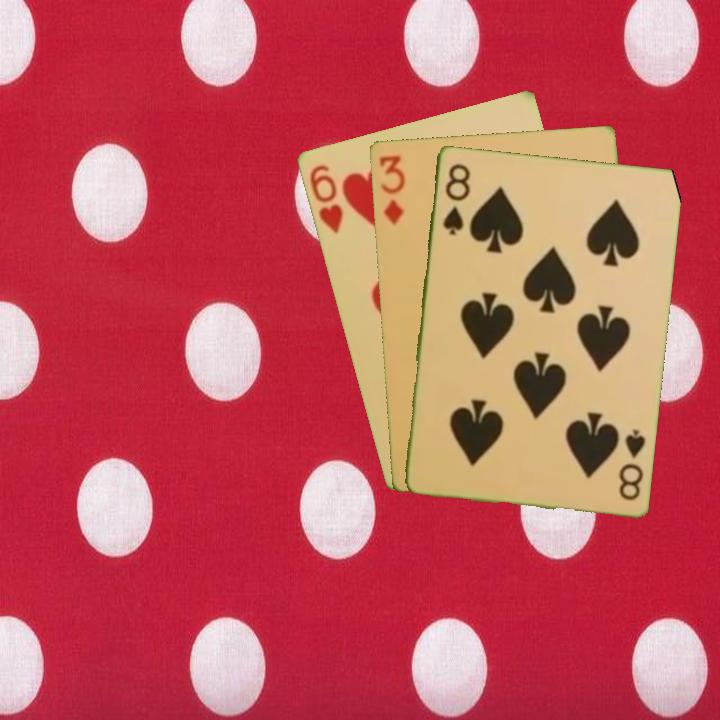3d: (375, 151, 408, 228)
6h: (305, 160, 346, 236)
8s: (439, 159, 473, 238), (615, 425, 648, 503)
